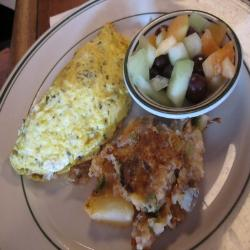omelette: (9, 20, 135, 182)
